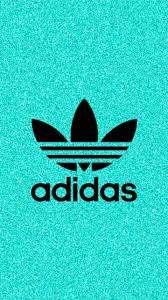adidas: (31, 100, 138, 201)
